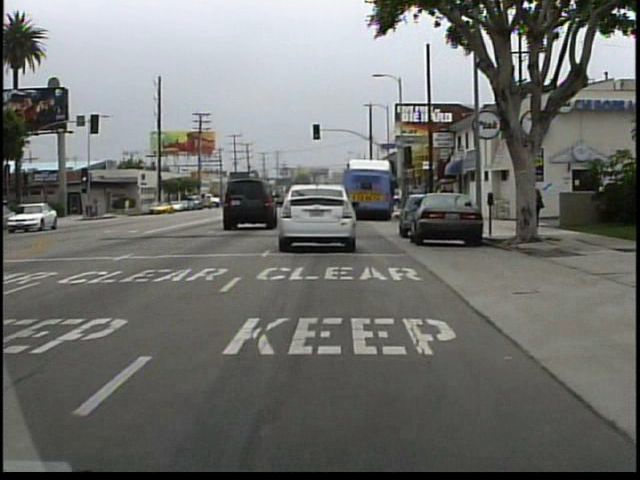person: (517, 176, 536, 230), (527, 177, 544, 232), (123, 196, 134, 216)
